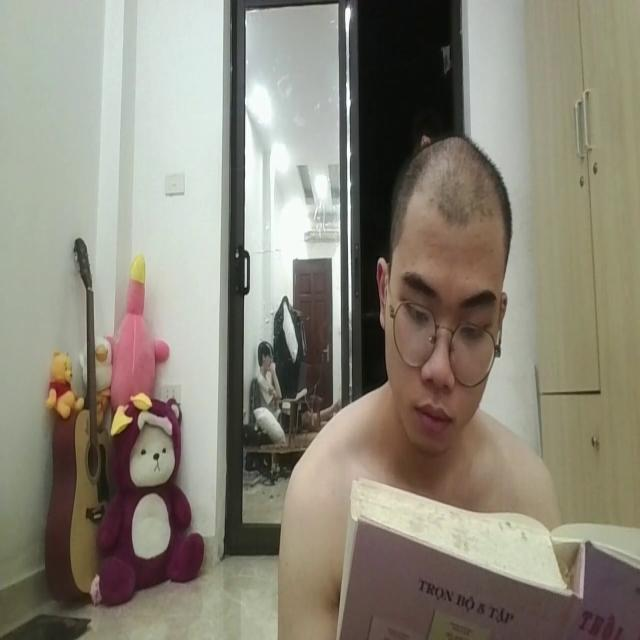book: (338, 455, 640, 640)
extra_person: (250, 326, 281, 405)
student: (276, 130, 563, 640)
